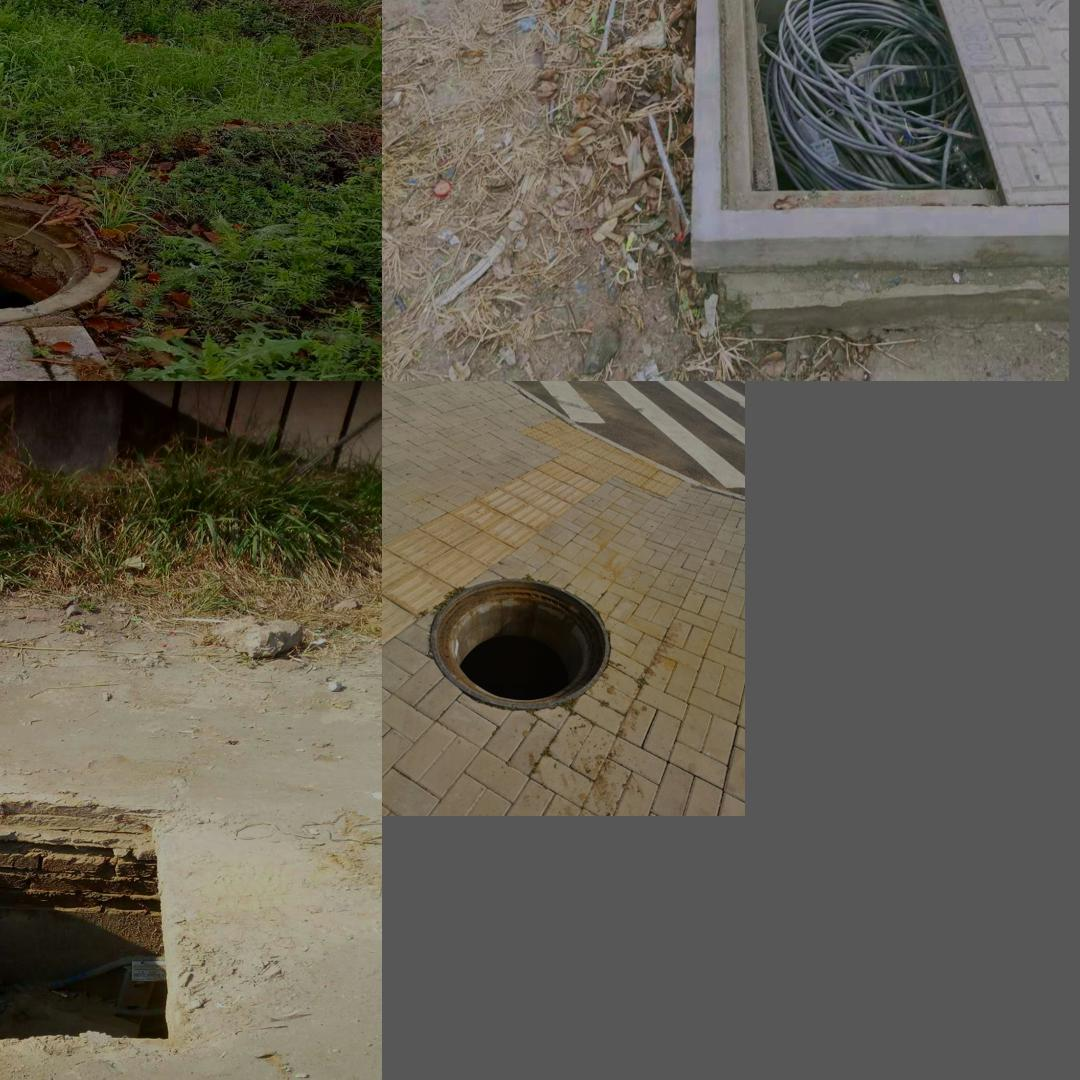lose: (687, 0, 1067, 271), (0, 769, 250, 1069), (428, 578, 609, 710), (0, 189, 123, 324)
